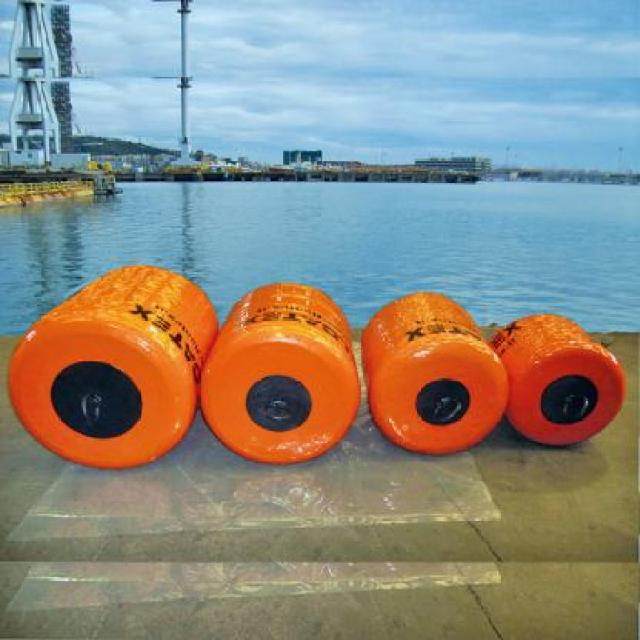a: (2, 245, 236, 474), (185, 272, 372, 473), (344, 281, 532, 466), (485, 307, 629, 456)
